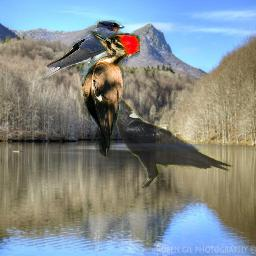Crow: (94, 96, 234, 191)
Swallow: (36, 20, 125, 81)
Woodpecker: (76, 31, 140, 157)
